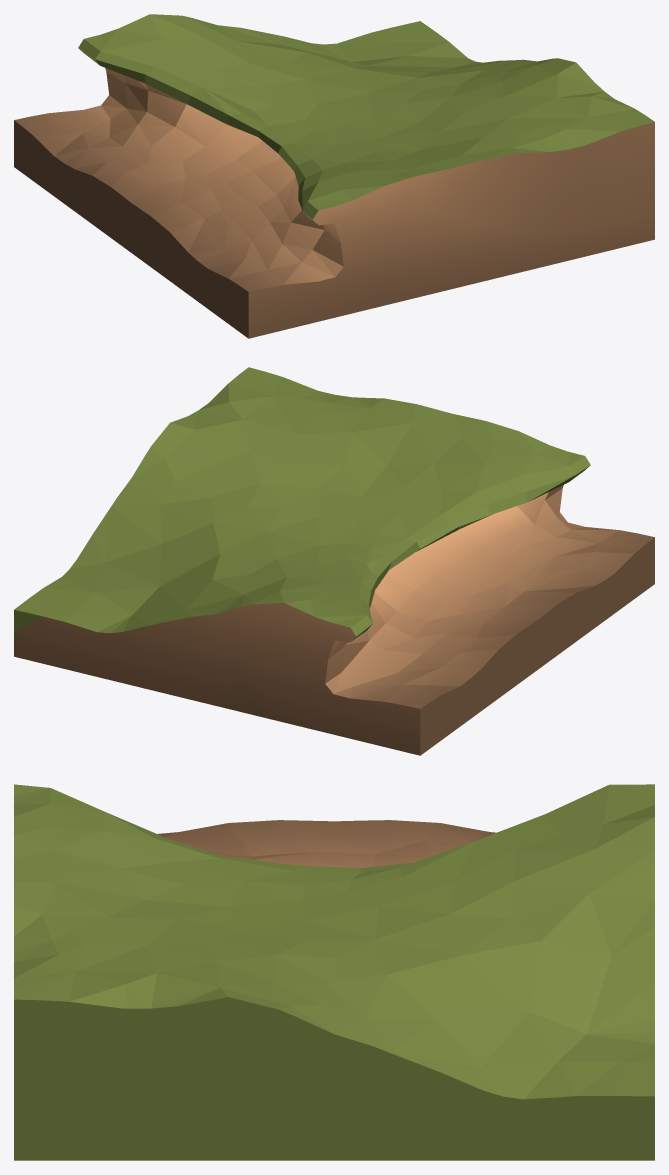
File: Terrian_Cliff_Flat_Trans-02.fbx
The picture shows the model from 3 angles, top to bottom: view 1: azimuth 30°, elevation 25°; view 2: azimuth 150°, elevation 25°; view 3: azimuth 270°, elevation 25°; orthographic projection. The views are drawn at different scales.
Parts seen in each view (by area): view 1: Terrian_Cliff_Flat_Trans-02; view 2: Terrian_Cliff_Flat_Trans-02; view 3: Terrian_Cliff_Flat_Trans-02.
Boxes of the visible parts, x1,y1,x2,y2 form: Terrian_Cliff_Flat_Trans-02: (14, 14, 654, 338); Terrian_Cliff_Flat_Trans-02: (14, 367, 654, 755); Terrian_Cliff_Flat_Trans-02: (14, 784, 654, 1160).
Bounding box in the file's own units: 3600 × 1031 × 3600.
Materials: 1 (1 with a texture image).
